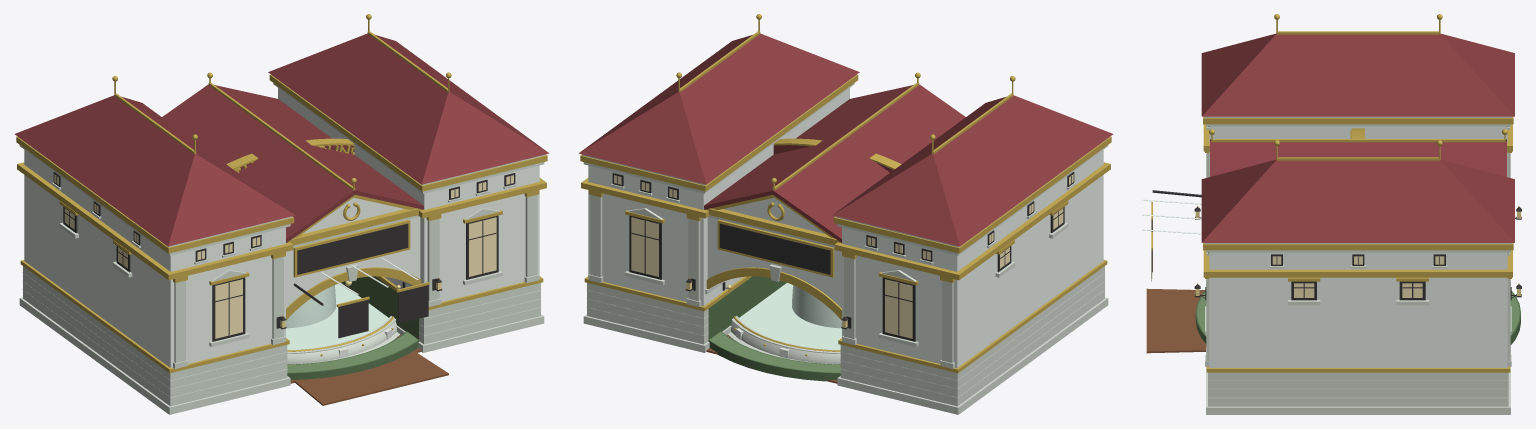
The model's file is downs-arcade.glb.
3 views of the same model, side by side, from view 1: azimuth 30°, elevation 25°; view 2: azimuth 150°, elevation 25°; view 3: azimuth 270°, elevation 25° (orthographic).
Parts seen in each view (by area): view 1: dn_gate_hall_barn, dn_gate_hall_mint, dn_gate_hall_mint2, dn_gate_hall_gold, dn_gate_hall_black, dn_gate_hall_glasswarm, dn_arcade_saddle2, dn_waterBasin, dn_arcade_black, dn_fountain_mint2, dn_gate_hall_baseJoints, dn_gate_hall_money2 (+4 smaller); view 2: dn_gate_hall_barn, dn_gate_hall_mint, dn_gate_hall_mint2, dn_gate_hall_gold, dn_gate_hall_black, dn_gate_hall_glasswarm, dn_waterBasin, dn_gate_hall_money2, dn_fountain_mint2, dn_gate_hall_baseJoints, dn_fountain_money2, dn_fountain_money (+2 smaller); view 3: dn_gate_hall_barn, dn_gate_hall_mint, dn_gate_hall_mint2, dn_gate_hall_gold, dn_arcade_saddle2, dn_gate_hall_baseJoints, dn_gate_hall_glasswarm, dn_gate_hall_black, dn_fountain_money, dn_fountain_money2.
Boxes of the visible parts, x1,y1,x2,y2 form: dn_gate_hall_barn: [14, 33, 549, 246]; dn_gate_hall_mint: [24, 88, 539, 367]; dn_gate_hall_mint2: [18, 77, 545, 414]; dn_gate_hall_gold: [16, 14, 547, 373]; dn_gate_hall_black: [53, 172, 515, 341]; dn_gate_hall_glasswarm: [54, 174, 513, 338]; dn_arcade_saddle2: [295, 351, 448, 405]; dn_waterBasin: [286, 283, 388, 349]; dn_arcade_black: [293, 283, 428, 338]; dn_fountain_mint2: [287, 316, 399, 364]; dn_gate_hall_baseJoints: [22, 272, 541, 397]; dn_gate_hall_money2: [341, 276, 419, 339]; dn_gate_hall_barn: [578, 33, 1113, 246]; dn_gate_hall_mint: [588, 88, 1103, 367]; dn_gate_hall_mint2: [582, 77, 1109, 414]; dn_gate_hall_gold: [580, 14, 1111, 373]; dn_gate_hall_black: [612, 172, 1074, 341]; dn_gate_hall_glasswarm: [614, 174, 1073, 338]; dn_waterBasin: [739, 283, 841, 349]; dn_gate_hall_money2: [708, 276, 786, 339]; dn_fountain_mint2: [728, 316, 840, 364]; dn_gate_hall_baseJoints: [586, 272, 1105, 397]; dn_fountain_money2: [708, 331, 840, 381]; dn_fountain_money: [709, 332, 840, 372]; dn_gate_hall_barn: [1201, 33, 1514, 242]; dn_gate_hall_mint: [1209, 126, 1507, 367]; dn_gate_hall_mint2: [1204, 116, 1512, 414]; dn_gate_hall_gold: [1197, 14, 1519, 372]; dn_arcade_saddle2: [1146, 288, 1206, 353]; dn_gate_hall_baseJoints: [1208, 380, 1508, 398]; dn_gate_hall_glasswarm: [1272, 256, 1444, 297]; dn_gate_hall_black: [1208, 126, 1508, 300]; dn_fountain_money: [1197, 292, 1519, 333]; dn_fountain_money2: [1195, 291, 1520, 345].
Size of the model in its own units: 33.1 by 22.3 by 28.02.
